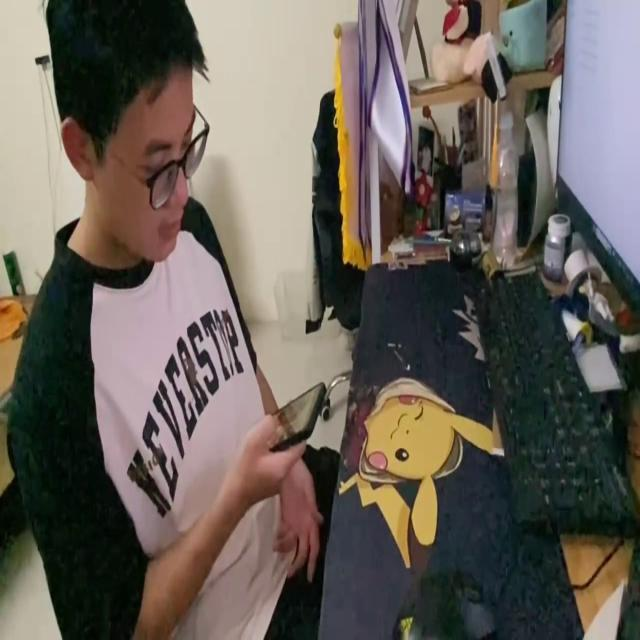laptop: (553, 0, 640, 319)
phone: (261, 379, 327, 446)
student: (4, 1, 327, 640)
